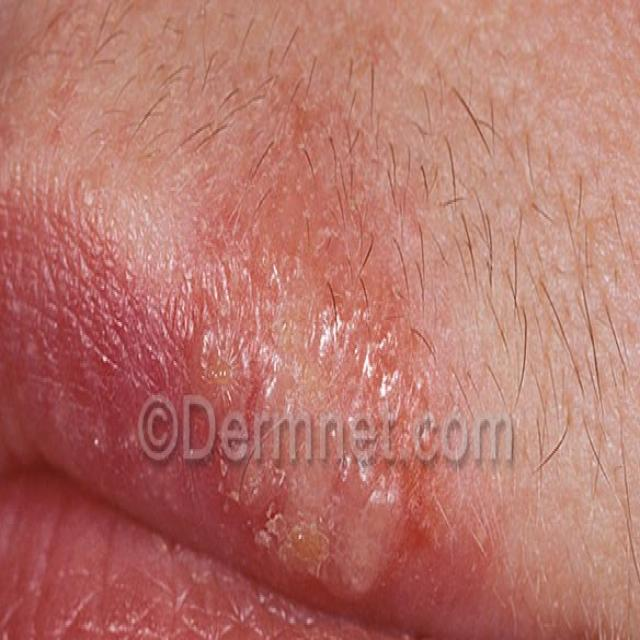Viral Infections: (175, 182, 423, 607)
